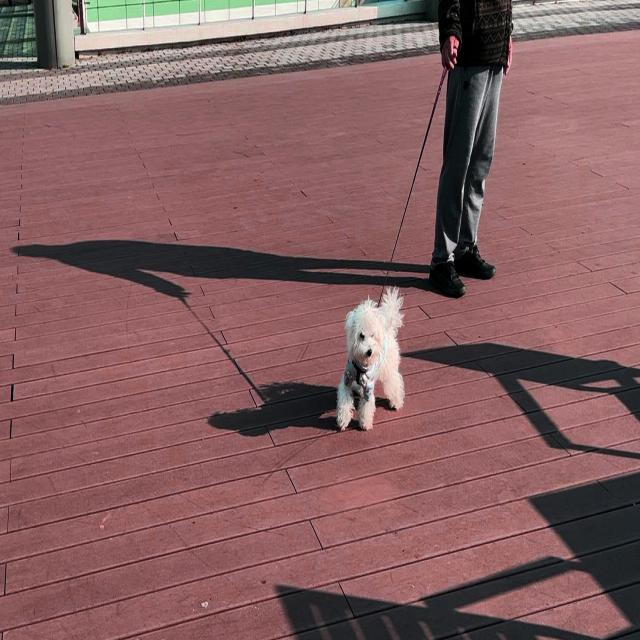Leashed_Dog: (337, 32, 464, 431)
